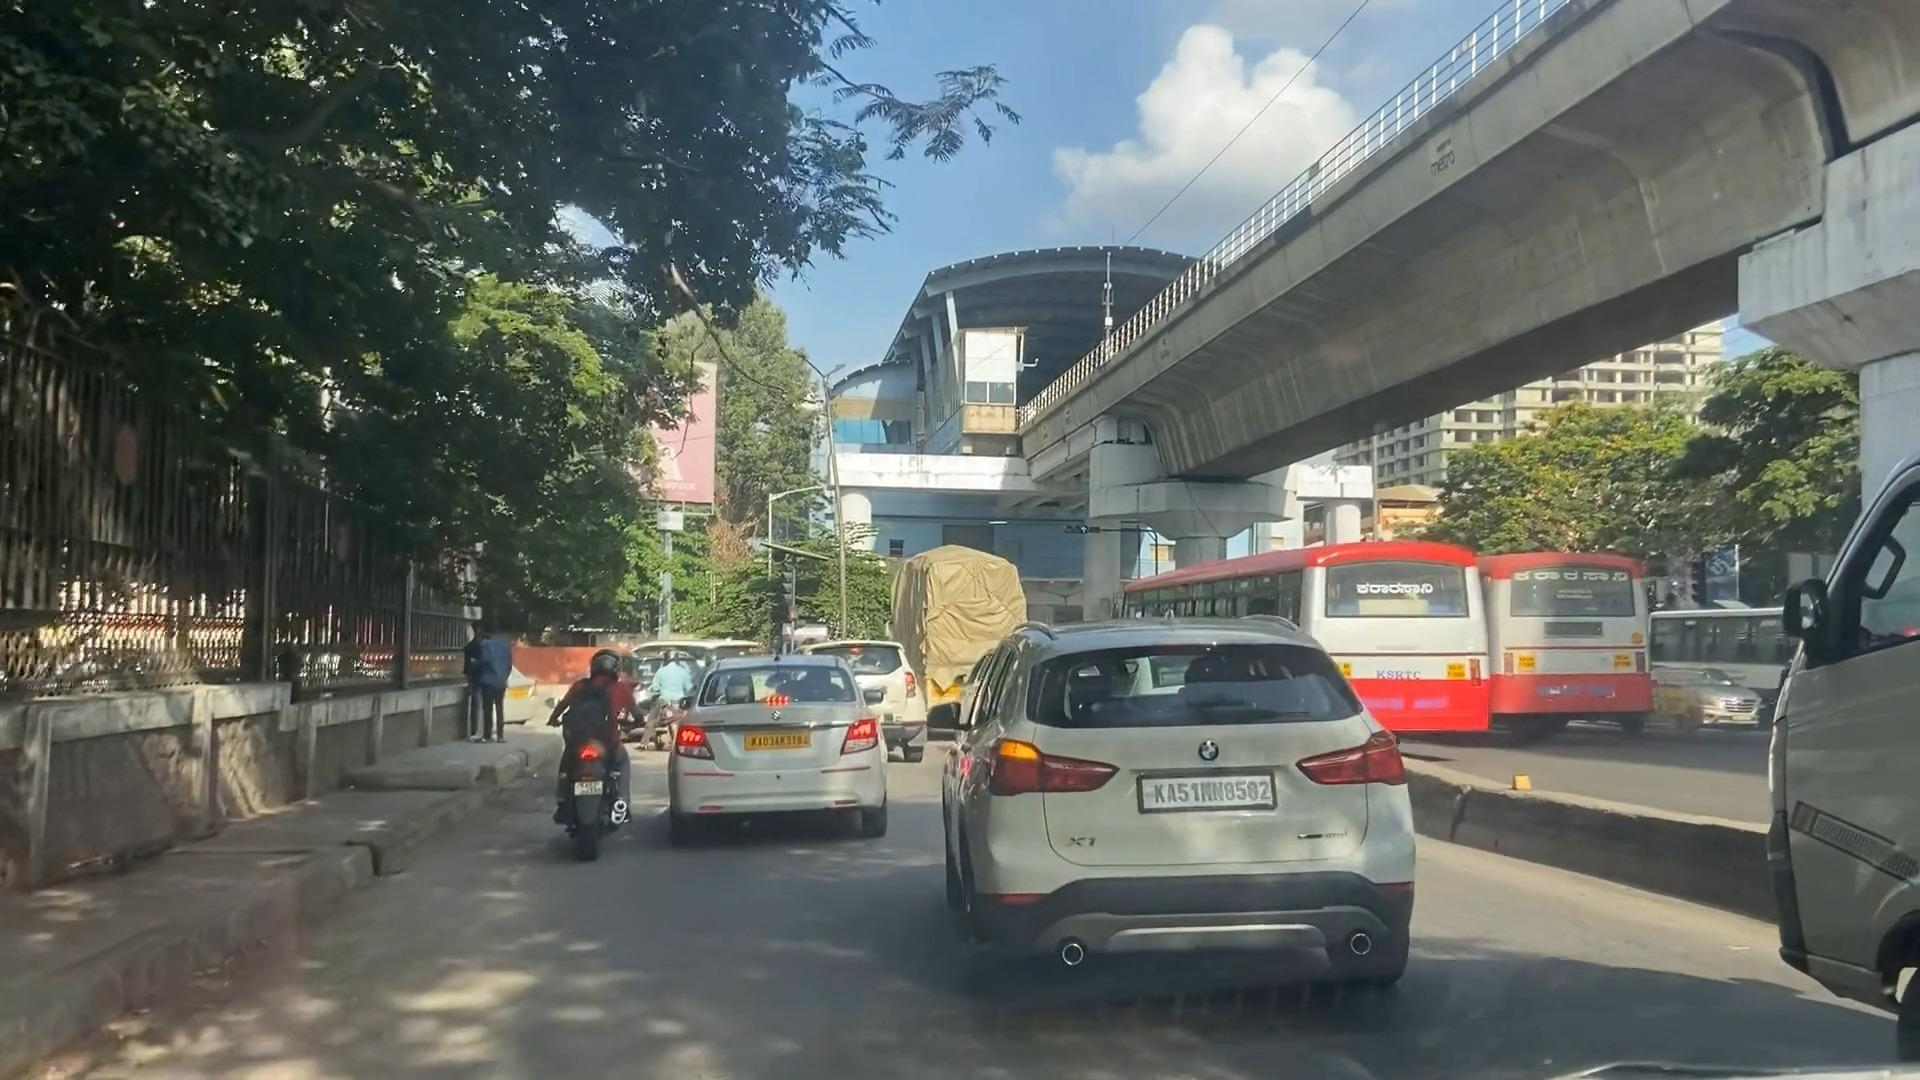HMV: (1262, 522, 1551, 746), (1505, 543, 1698, 758)
